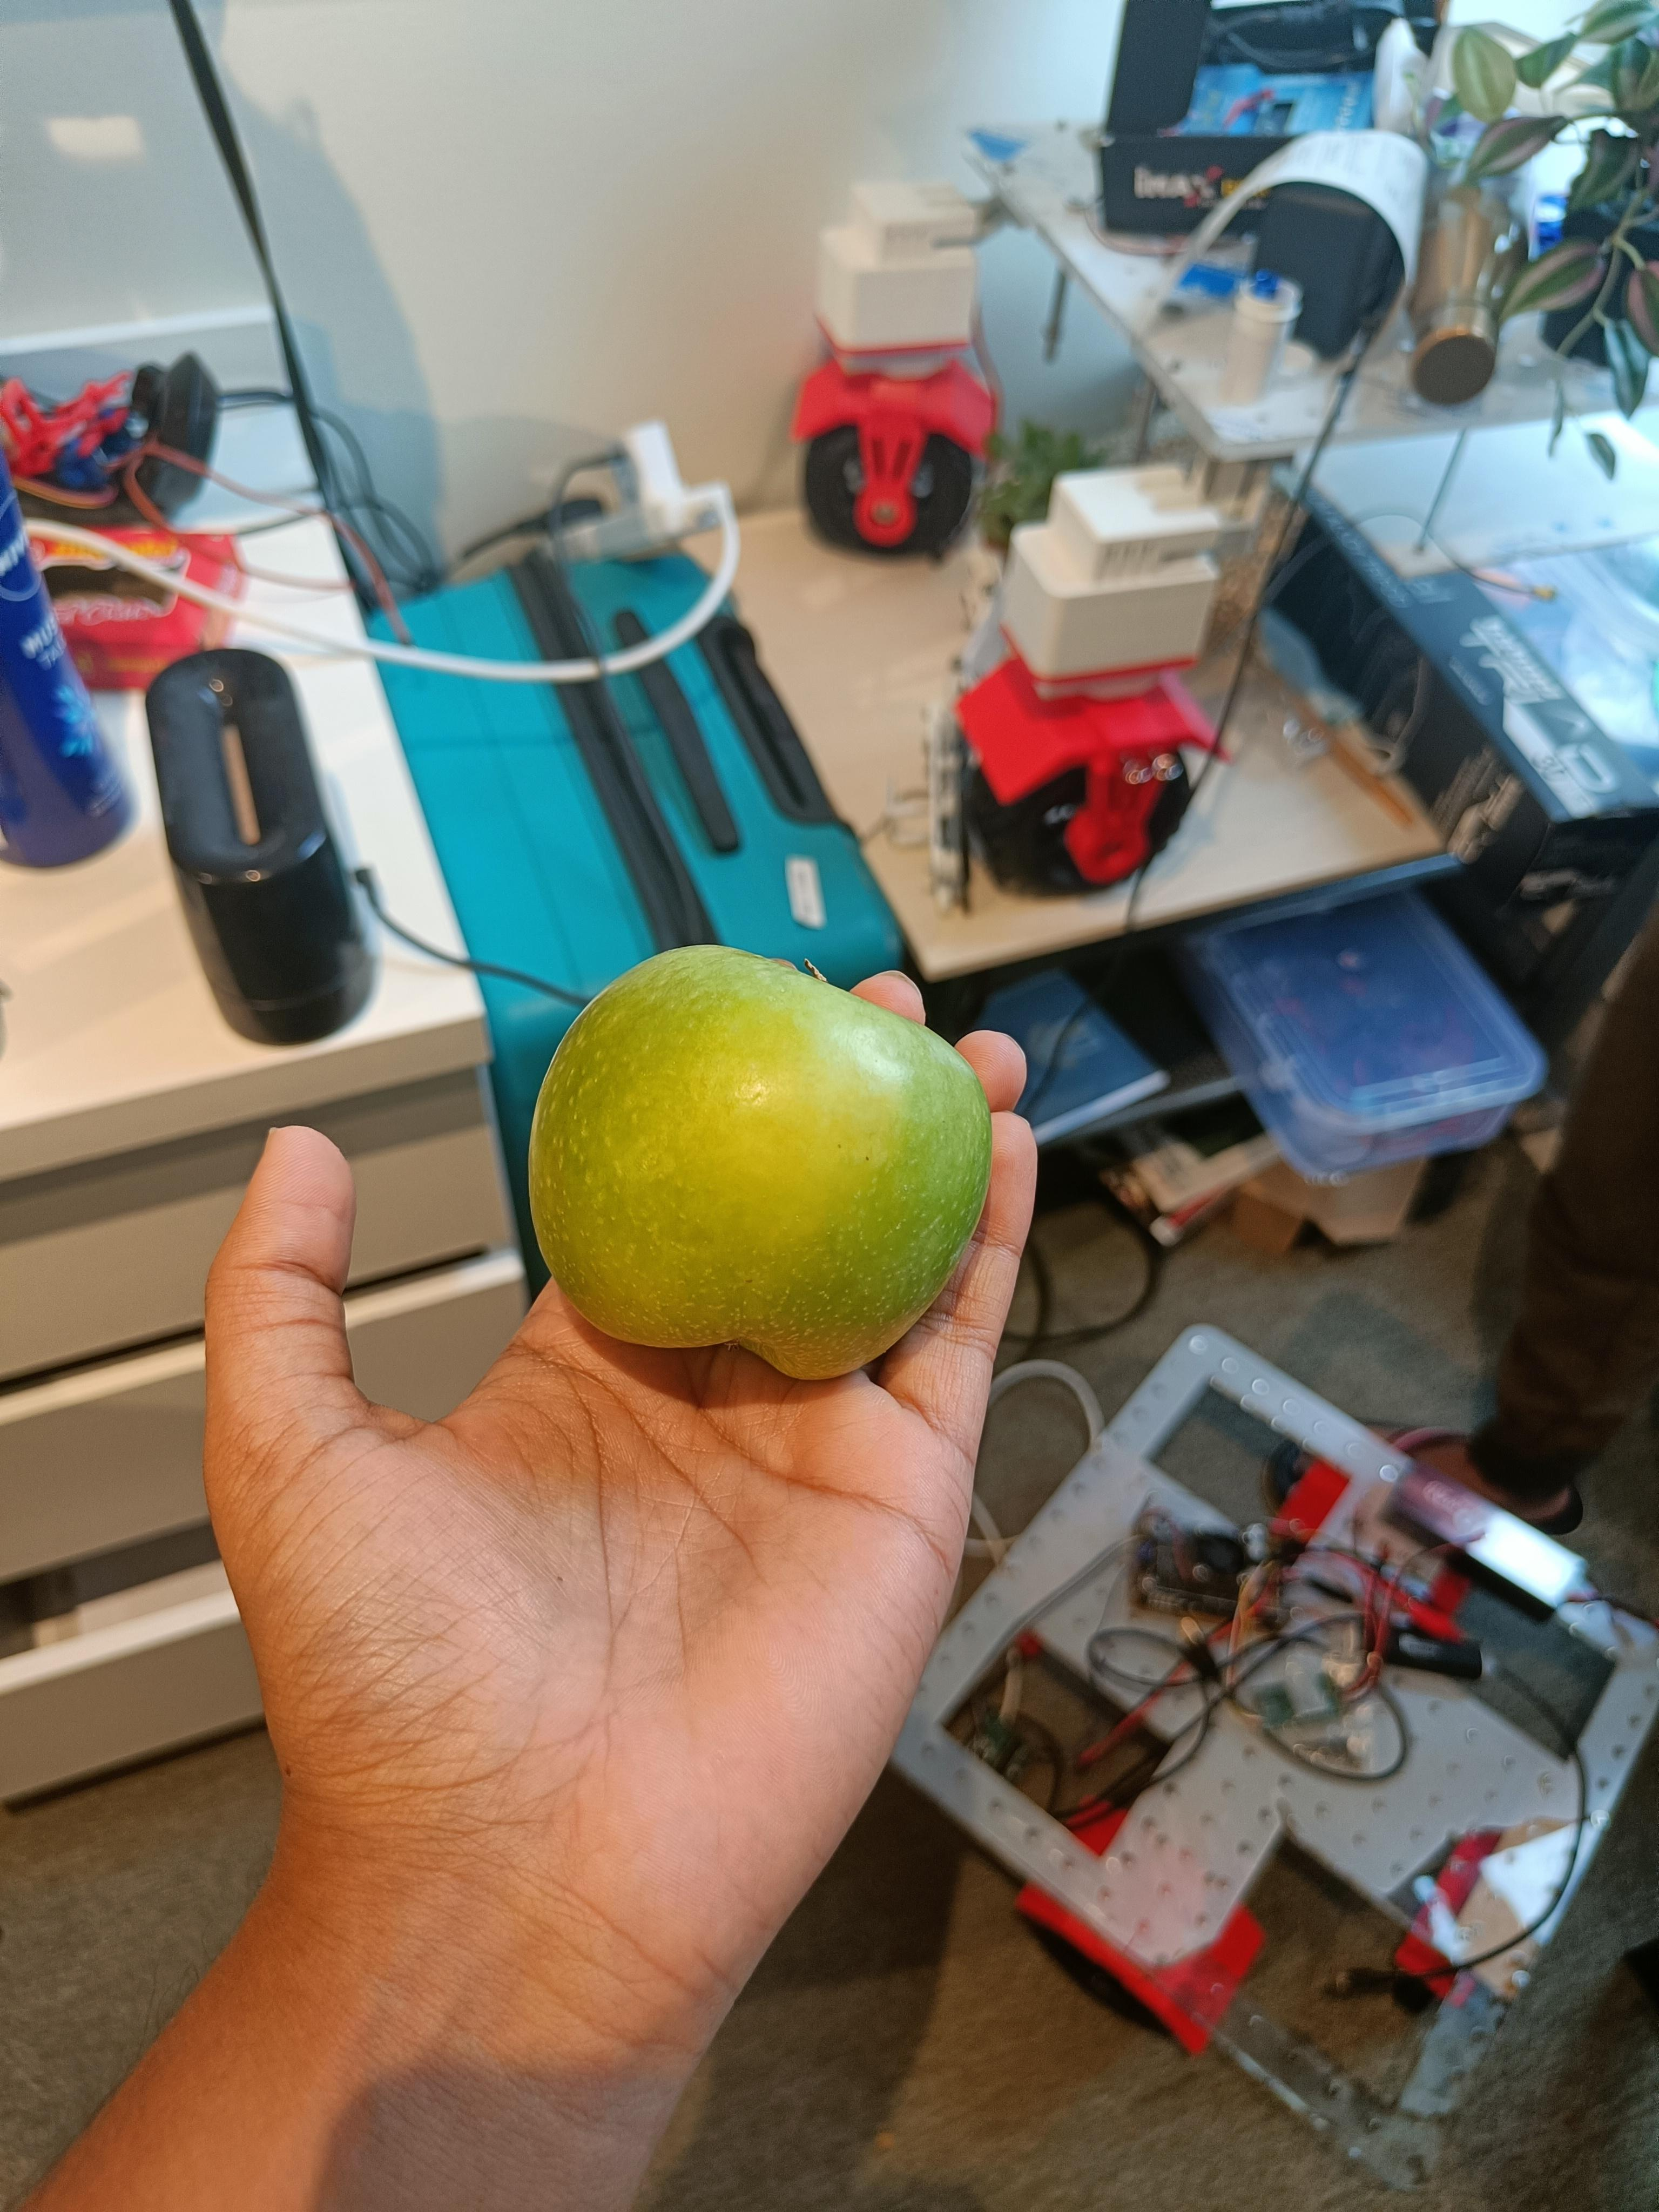Apple: (525, 921, 1011, 1418)
